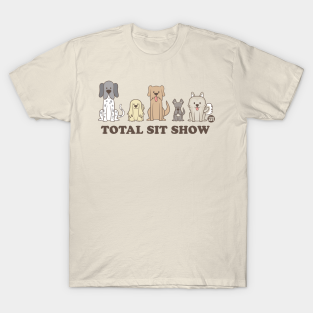design: (95, 79, 217, 136)
